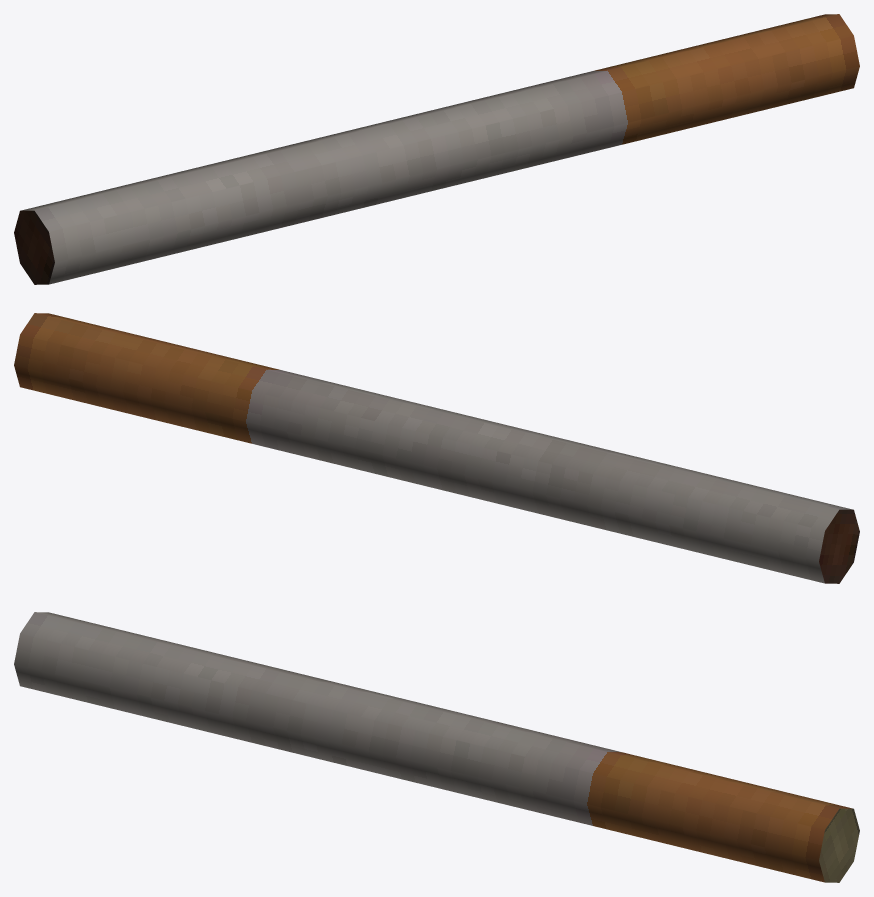
Rendered from Cig1.glb.
The picture shows the model from 3 angles, top to bottom: view 1: azimuth 30°, elevation 25°; view 2: azimuth 150°, elevation 25°; view 3: azimuth 330°, elevation 25°; orthographic projection.
Parts seen in each view (by area): view 1: cig_1; view 2: cig_1; view 3: cig_1.
Part boxes in pixels (box(x1,y1,x2,y2)): cig_1: box(14, 14, 859, 284); cig_1: box(14, 313, 859, 583); cig_1: box(14, 612, 859, 882).
Bounding box in the file's own units: 0.153 × 0.0135 × 0.0135.
Materials: 1 (1 with a texture image).
